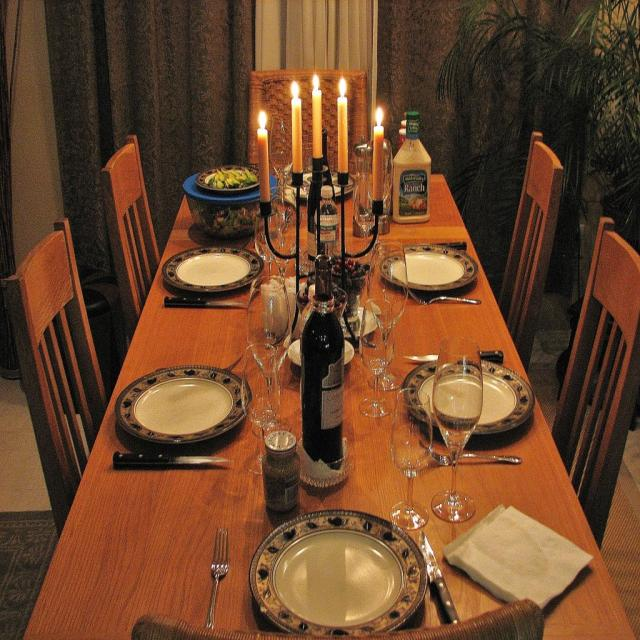non-organic waste: (245, 508, 422, 640), (116, 358, 247, 452), (371, 238, 487, 322), (156, 232, 268, 302)
